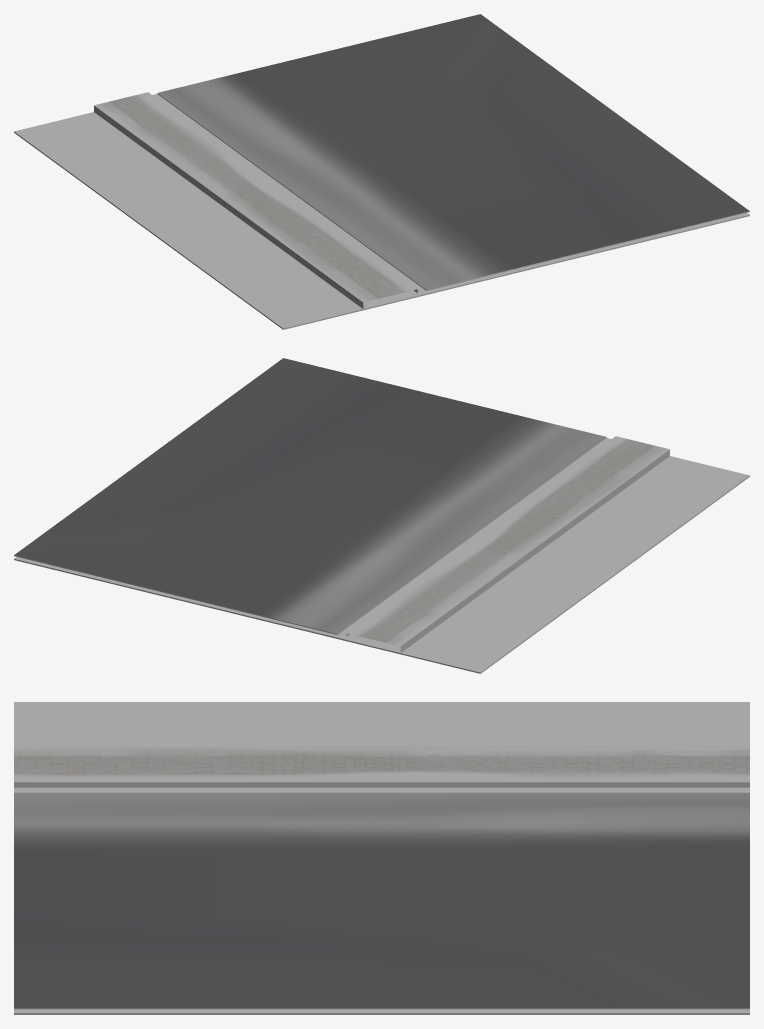
File: Carpark_Extender.fbx
The picture shows the model from 3 angles, top to bottom: view 1: azimuth 30°, elevation 25°; view 2: azimuth 150°, elevation 25°; view 3: azimuth 270°, elevation 25°; orthographic projection. The views are drawn at different scales.
Visible parts, largest first — view 1: Road_10X57, Road_10X35; view 2: Road_10X57, Road_10X35; view 3: Road_10X57, Road_10X35.
Part boxes in pixels (x1,y1,x2,y2): Road_10X57: (94, 14, 749, 308); Road_10X35: (14, 112, 749, 329); Road_10X57: (14, 358, 669, 652); Road_10X35: (14, 456, 749, 673); Road_10X57: (14, 746, 749, 1009); Road_10X35: (14, 702, 749, 1014).
Size of the model in its own units: 1000 by 16.24 by 1000.
